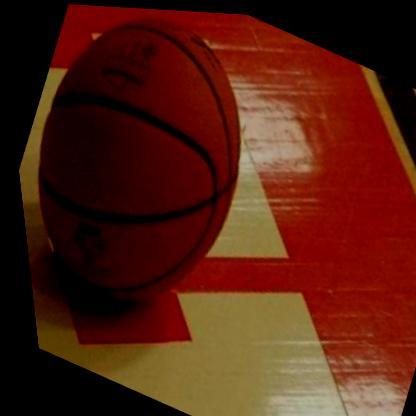basketball: (0, 0, 299, 345)
